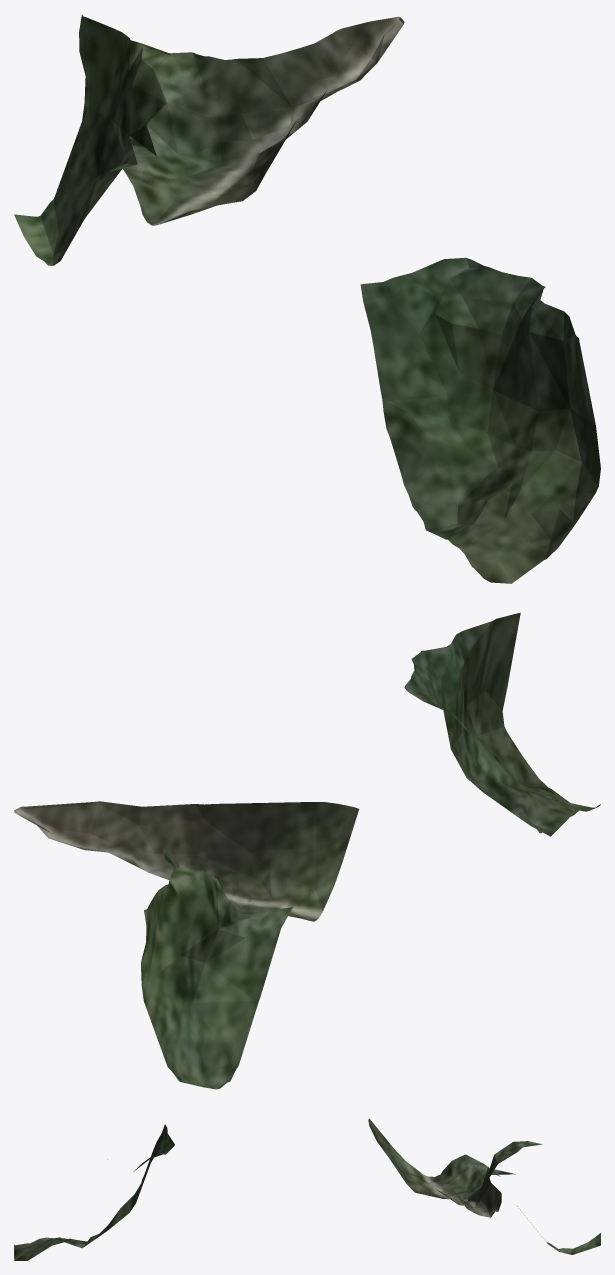
The picture shows the model from 3 angles, top to bottom: view 1: azimuth 30°, elevation 25°; view 2: azimuth 150°, elevation 25°; view 3: azimuth 270°, elevation 25°; orthographic projection. The views are drawn at different scales.
Bounding box in the file's own units: 2.2 × 1.49 × 5.9.
Materials: 1 (1 with a texture image).
